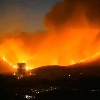fire: (53, 50, 99, 65), (2, 54, 33, 71)
